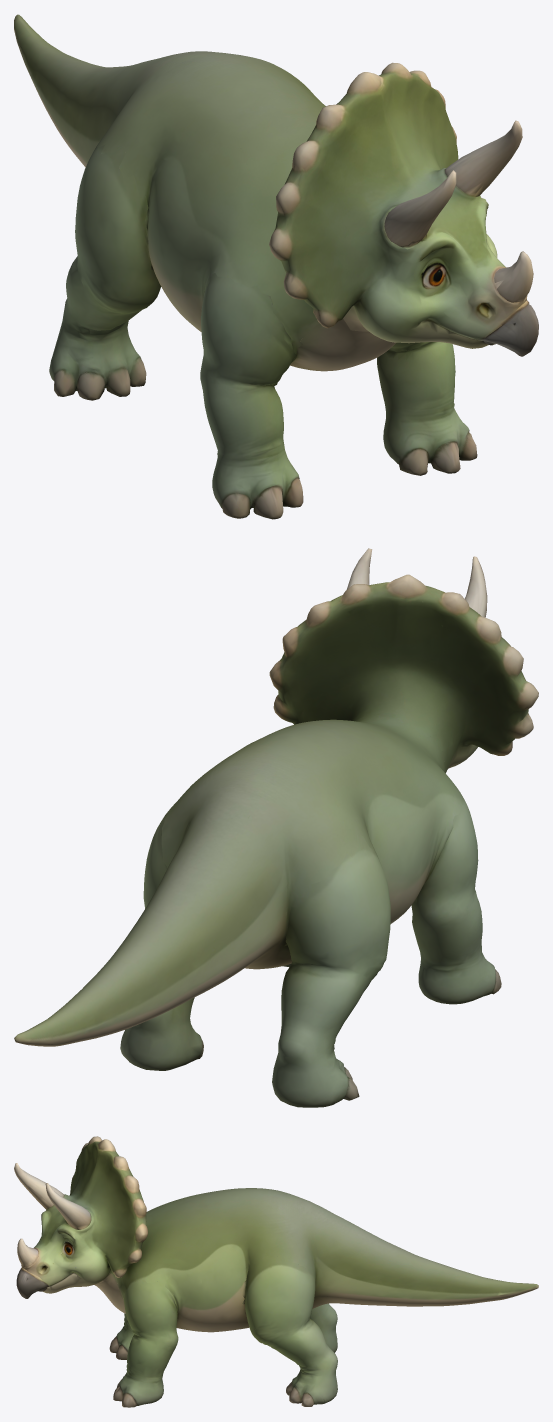
File: triceratops.glb
The picture shows the model from 3 angles, top to bottom: view 1: azimuth 30°, elevation 25°; view 2: azimuth 150°, elevation 25°; view 3: azimuth 270°, elevation 25°; orthographic projection. The views are drawn at different scales.
Visible parts, largest first — view 1: tripo_part_0, tripo_part_1, tripo_part_4, tripo_part_5, tripo_part_3, tripo_part_6, tripo_part_8, tripo_part_9, tripo_part_7, tripo_part_10; view 2: tripo_part_0, tripo_part_1, tripo_part_5, tripo_part_4, tripo_part_2, tripo_part_8; view 3: tripo_part_0, tripo_part_1, tripo_part_2, tripo_part_3, tripo_part_9, tripo_part_5, tripo_part_8, tripo_part_7, tripo_part_4, tripo_part_6, tripo_part_10.
Part boxes in pixels (x1,y1,x2,y2): tripo_part_0: [14, 14, 325, 353]; tripo_part_1: [269, 62, 527, 348]; tripo_part_4: [200, 273, 303, 519]; tripo_part_5: [49, 145, 161, 400]; tripo_part_3: [377, 342, 477, 475]; tripo_part_6: [290, 318, 395, 371]; tripo_part_8: [384, 170, 456, 249]; tripo_part_9: [444, 120, 522, 197]; tripo_part_7: [481, 300, 538, 356]; tripo_part_10: [494, 251, 533, 306]; tripo_part_0: [14, 714, 464, 1046]; tripo_part_1: [269, 574, 538, 773]; tripo_part_5: [272, 833, 390, 1107]; tripo_part_4: [411, 800, 501, 1004]; tripo_part_2: [120, 803, 203, 1070]; tripo_part_8: [465, 556, 487, 617]; tripo_part_0: [115, 1188, 538, 1332]; tripo_part_1: [21, 1136, 148, 1293]; tripo_part_2: [241, 1254, 337, 1406]; tripo_part_3: [113, 1280, 178, 1407]; tripo_part_9: [45, 1183, 91, 1230]; tripo_part_5: [310, 1303, 337, 1352]; tripo_part_8: [14, 1163, 64, 1209]; tripo_part_7: [16, 1267, 49, 1298]; tripo_part_4: [109, 1313, 133, 1359]; tripo_part_6: [94, 1272, 125, 1313]; tripo_part_10: [17, 1238, 38, 1267].
Bounding box in the file's own units: 0.3059 × 0.4858 × 0.9844.
1 material, 1 textured.
